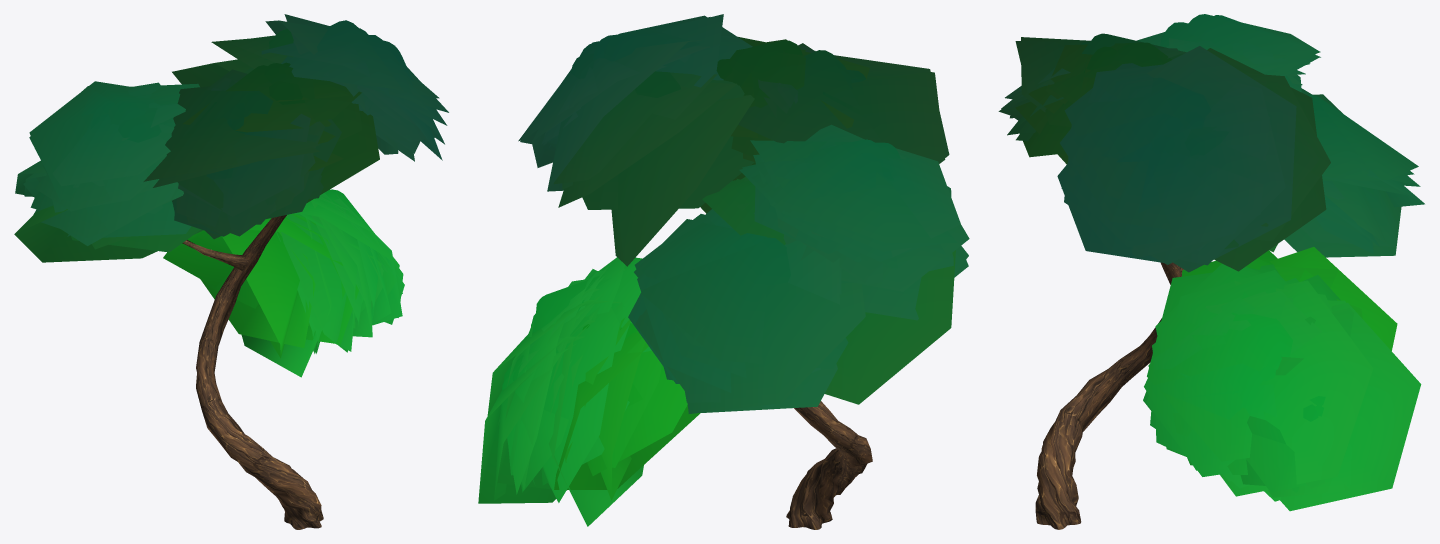
File: FantasyTree11.fbx
3 views of the same model, side by side, from view 1: azimuth 30°, elevation 25°; view 2: azimuth 150°, elevation 25°; view 3: azimuth 270°, elevation 25° (orthographic). The views are drawn at different scales.
Visible parts, largest first — view 1: fantasyleaf1_alpha_1, tree2_0; view 2: fantasyleaf1_alpha_1, tree2_0; view 3: fantasyleaf1_alpha_1, tree2_0.
Part boxes in pixels (x1=…): fantasyleaf1_alpha_1: x1=14, y1=14, x2=448, y2=377; tree2_0: x1=182, y1=215, x2=323, y2=529; fantasyleaf1_alpha_1: x1=478, y1=14, x2=969, y2=526; tree2_0: x1=786, y1=401, x2=872, y2=529; fantasyleaf1_alpha_1: x1=998, y1=14, x2=1424, y2=511; tree2_0: x1=1035, y1=262, x2=1183, y2=529.
Bounding box in the file's own units: 450 × 504 × 395.
1 material, 1 textured.
